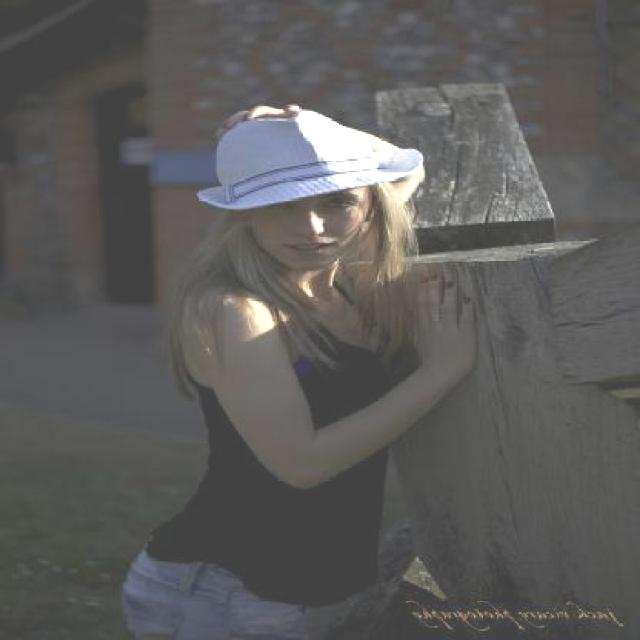Person: (117, 104, 485, 638)
